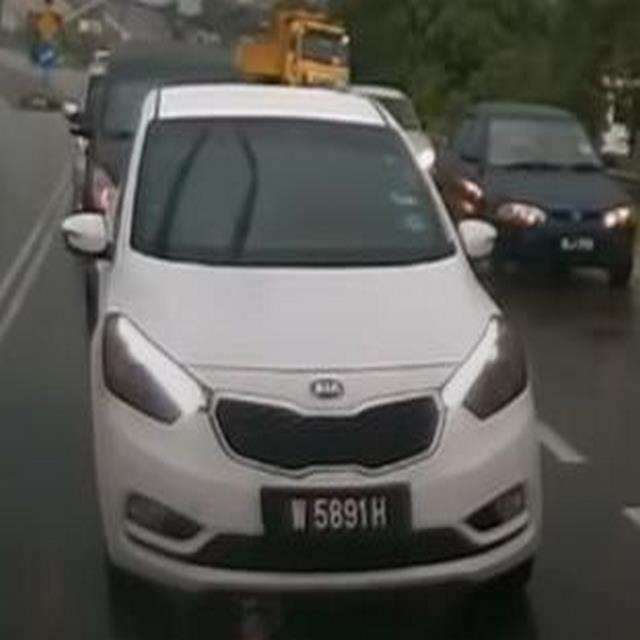License_Plate: (261, 478, 421, 545)
car: (69, 82, 553, 621)
